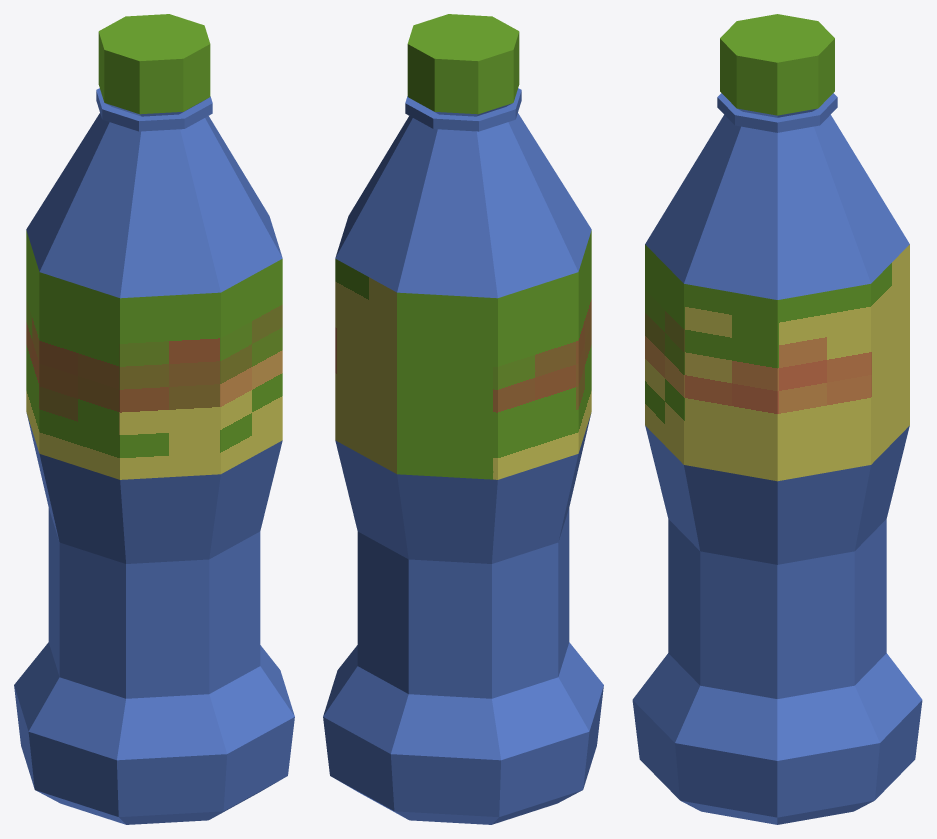
Rendered from Soda_01.glb.
The picture shows the model from 3 angles, left to right: view 1: azimuth 30°, elevation 25°; view 2: azimuth 150°, elevation 25°; view 3: azimuth 270°, elevation 25°; orthographic projection.
Parts seen in each view (by area): view 1: Soda_01; view 2: Soda_01; view 3: Soda_01.
Part boxes in pixels (left/top/right/bottom): Soda_01: left=14, top=14, right=294, bottom=824; Soda_01: left=323, top=14, right=603, bottom=824; Soda_01: left=632, top=14, right=922, bottom=824.
Size of the model in its own units: 0.0798 by 0.225 by 0.0798.
1 material, 1 textured.
